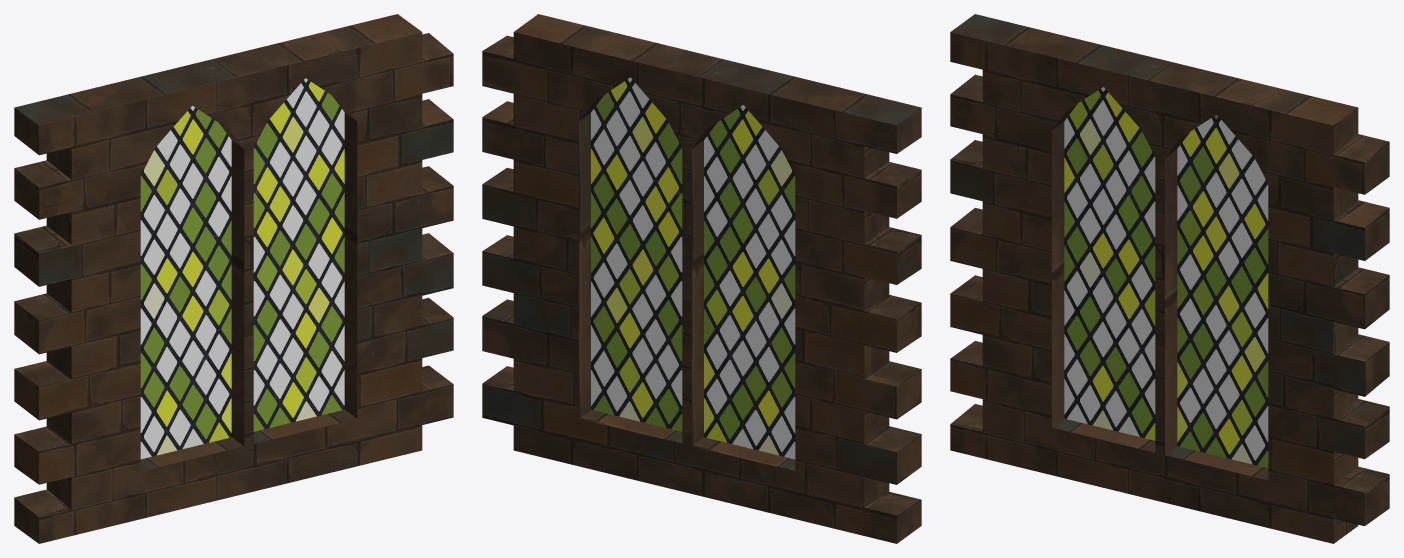
The model's file is StainedGlass.fbx.
The picture shows the model from 3 angles, left to right: view 1: azimuth 30°, elevation 25°; view 2: azimuth 150°, elevation 25°; view 3: azimuth 330°, elevation 25°; orthographic projection.
Visible parts, largest first — view 1: ściana.004, ściana.006; view 2: ściana.004, ściana.006; view 3: ściana.004, ściana.006.
Part boxes in pixels (bbox=[...]): ściana.004: bbox=[14, 14, 453, 543]; ściana.006: bbox=[140, 78, 344, 459]; ściana.004: bbox=[482, 14, 921, 543]; ściana.006: bbox=[591, 77, 795, 459]; ściana.004: bbox=[950, 14, 1389, 543]; ściana.006: bbox=[1064, 87, 1268, 467].
Size of the model in its own units: 389 by 375 by 40.16.
